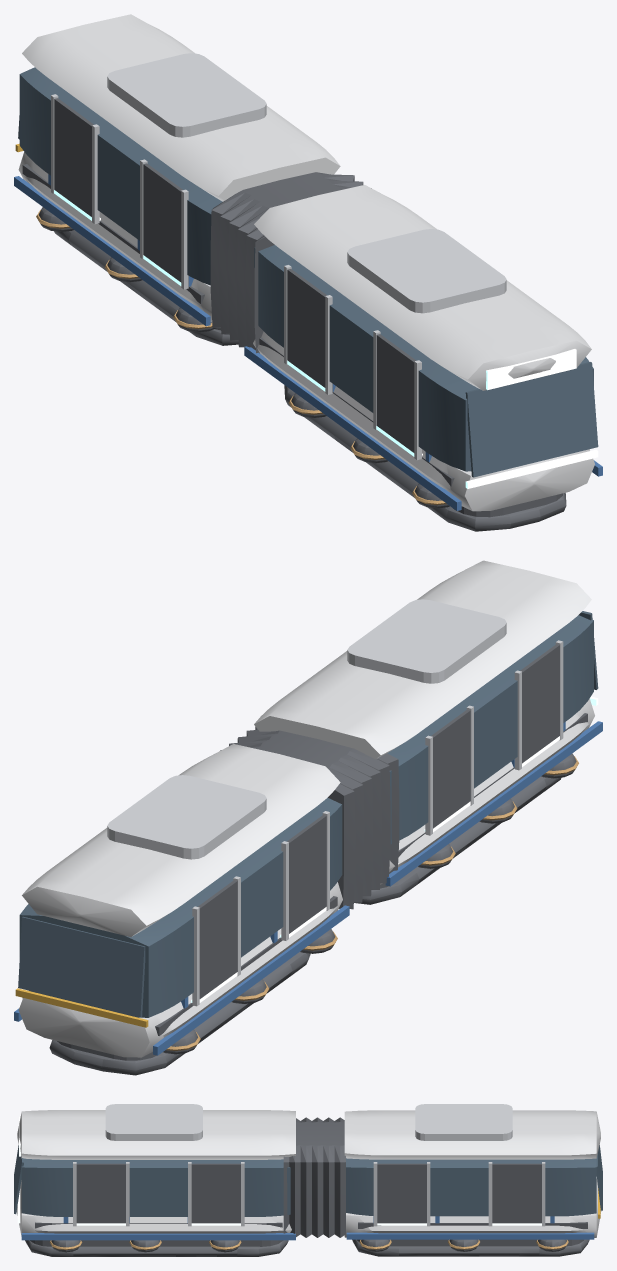
Rendered from hover-transit-and-antigrav-fleet-articulated-transit-b-fd5c024c__17078.glb.
3 renders of one model, top to bottom at view 1: azimuth 30°, elevation 25°; view 2: azimuth 150°, elevation 25°; view 3: azimuth 270°, elevation 25°, orthographic. The views are drawn at different scales.
Visible parts, largest first — view 1: articulated-transit-bus; view 2: articulated-transit-bus; view 3: articulated-transit-bus.
Boxes of the visible parts, <box> form: articulated-transit-bus: <box>14,14,602,531</box>; articulated-transit-bus: <box>14,560,602,1075</box>; articulated-transit-bus: <box>14,1104,602,1256</box>.
Size of the model in its own units: 2.7 by 3.04 by 13.32.
